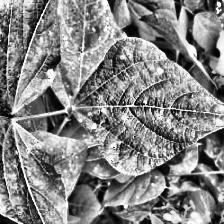Bean Rust: (71, 44, 224, 174), (0, 0, 69, 113), (0, 120, 71, 224), (46, 0, 111, 103), (97, 166, 178, 205)
